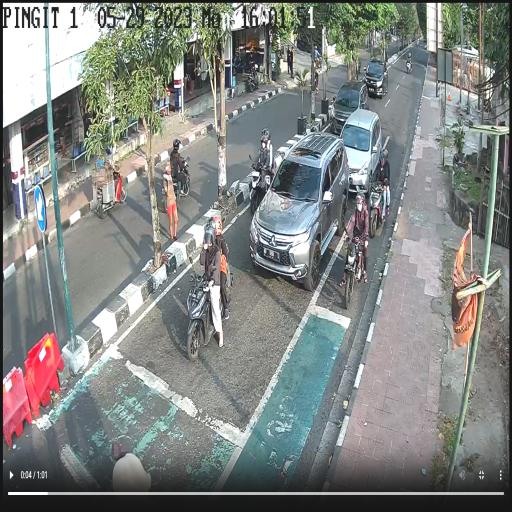mobil: (249, 120, 348, 288), (338, 106, 381, 191), (328, 72, 370, 136), (364, 57, 390, 97)
motor: (188, 257, 236, 355), (341, 229, 369, 306), (247, 154, 275, 215), (369, 174, 391, 238)
